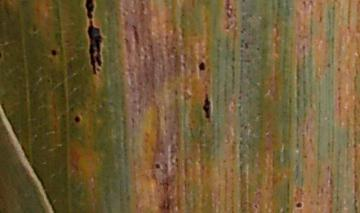tarspot: (84, 1, 103, 75), (202, 92, 212, 121), (197, 62, 207, 71), (73, 114, 81, 124), (153, 162, 162, 170), (50, 49, 58, 57), (296, 201, 304, 208), (326, 61, 332, 69), (336, 66, 341, 73)
